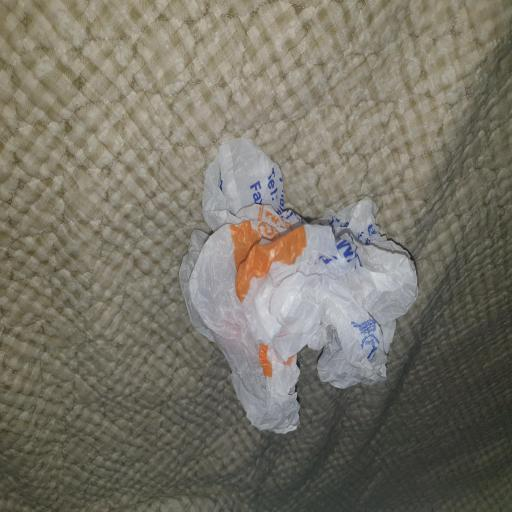plastic bag: (177, 128, 420, 438)
